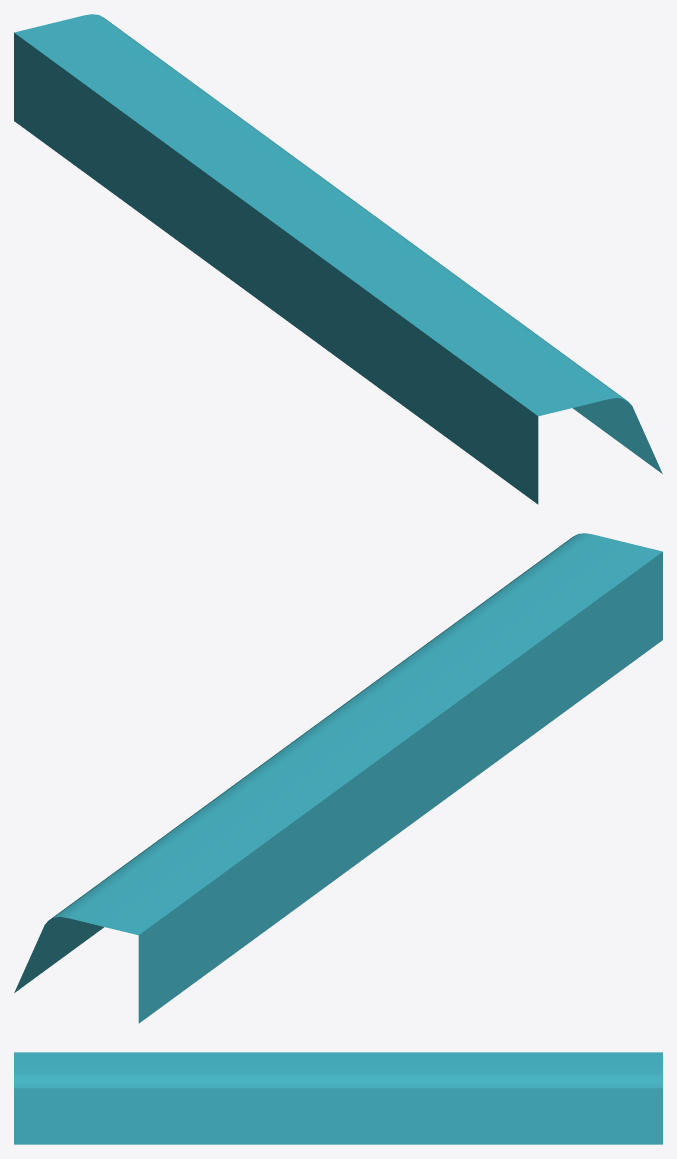
File: M_Tunnel sidepiece.FBX
The picture shows the model from 3 angles, top to bottom: view 1: azimuth 30°, elevation 25°; view 2: azimuth 150°, elevation 25°; view 3: azimuth 270°, elevation 25°; orthographic projection. The views are drawn at different scales.
Parts seen in each view (by area): view 1: tunnelsidepiece_low; view 2: tunnelsidepiece_low; view 3: tunnelsidepiece_low.
Boxes of the visible parts, x1,y1,x2,y2 form: tunnelsidepiece_low: (14,14,662,504); tunnelsidepiece_low: (14,533,662,1023); tunnelsidepiece_low: (14,1052,662,1144).
Bounding box in the file's own units: 38.28 × 25.97 × 279.
